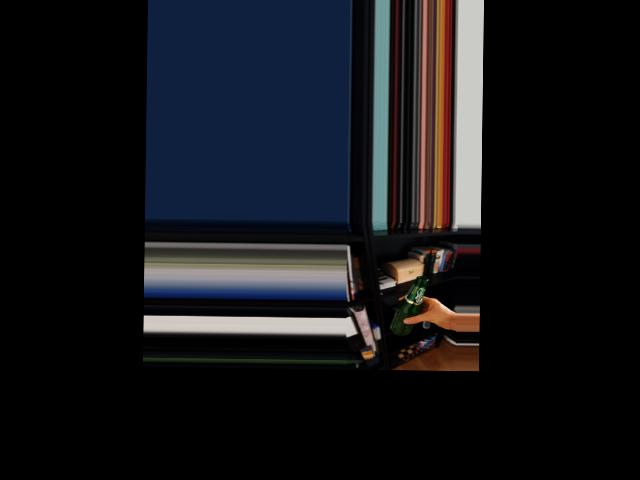beer: (388, 276, 428, 336)
